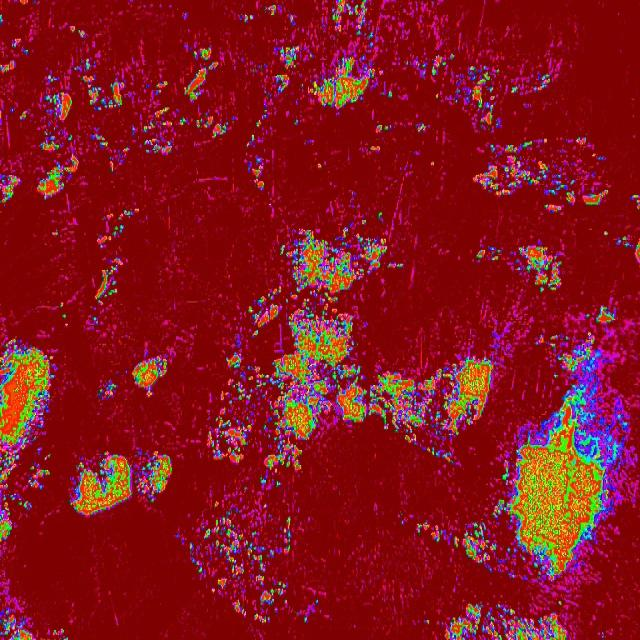fire: (497, 384, 629, 576), (178, 500, 321, 630), (267, 296, 368, 474), (371, 355, 497, 466), (405, 59, 554, 135), (477, 140, 621, 210), (275, 228, 404, 292), (2, 335, 55, 486), (208, 354, 268, 486), (69, 448, 173, 518), (395, 505, 497, 575), (547, 304, 616, 381), (125, 114, 237, 158), (313, 0, 395, 59), (437, 602, 570, 638), (475, 242, 564, 292), (303, 56, 380, 109), (98, 356, 168, 405), (96, 206, 130, 306), (176, 56, 237, 106), (76, 59, 134, 110), (240, 294, 285, 341), (36, 160, 91, 198), (246, 101, 269, 191), (44, 71, 72, 130), (2, 494, 32, 546), (92, 132, 122, 180), (5, 35, 32, 81), (3, 604, 31, 640), (40, 132, 82, 154), (269, 45, 304, 71), (264, 3, 296, 28), (0, 172, 22, 208), (9, 101, 32, 130), (184, 34, 214, 56), (264, 76, 294, 94), (66, 26, 95, 40), (50, 627, 73, 640), (238, 11, 256, 27), (614, 236, 633, 250), (628, 192, 639, 216), (366, 142, 384, 156), (533, 334, 549, 348), (148, 80, 170, 90), (59, 298, 68, 322), (377, 125, 396, 136), (312, 158, 325, 174), (633, 239, 640, 267), (178, 10, 195, 21), (378, 210, 390, 224), (85, 316, 101, 326), (153, 106, 173, 113), (18, 0, 35, 8), (425, 615, 435, 626), (431, 160, 440, 172), (0, 13, 7, 28), (604, 229, 612, 239), (274, 480, 282, 490), (52, 231, 59, 240), (388, 91, 395, 100), (172, 450, 173, 460)
